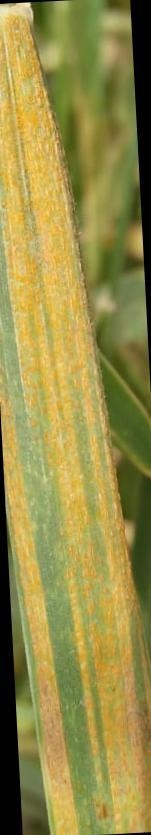Wheat: (4, 421, 145, 827), (1, 48, 101, 419)
